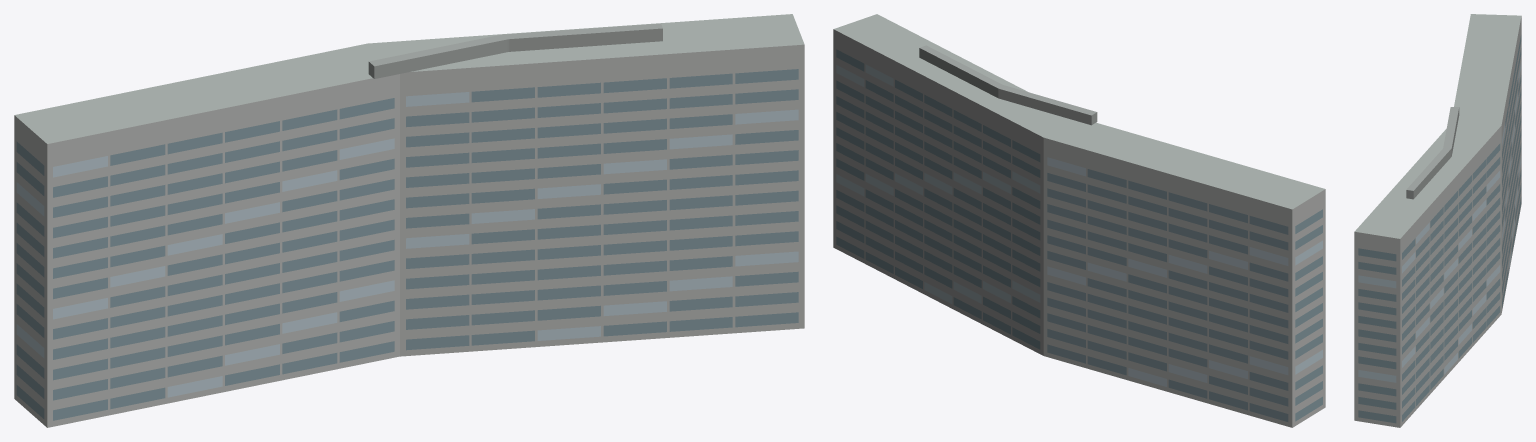
Rendered from fallback-daechi-eunma-22.glb.
3 views of the same model, side by side, from view 1: azimuth 30°, elevation 25°; view 2: azimuth 150°, elevation 25°; view 3: azimuth 270°, elevation 25° (orthographic). The views are drawn at different scales.
Visible parts, largest first — view 1: fallback-daechi-eunma-22; view 2: fallback-daechi-eunma-22; view 3: fallback-daechi-eunma-22.
Boxes of the visible parts, left/top/right/bottom form: fallback-daechi-eunma-22: left=14, top=14, right=804, bottom=427; fallback-daechi-eunma-22: left=833, top=14, right=1325, bottom=427; fallback-daechi-eunma-22: left=1354, top=14, right=1521, bottom=427.
Size of the model in its own units: 109 by 44.62 by 34.2.
